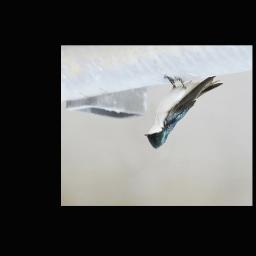Swallow: (143, 72, 224, 151)
